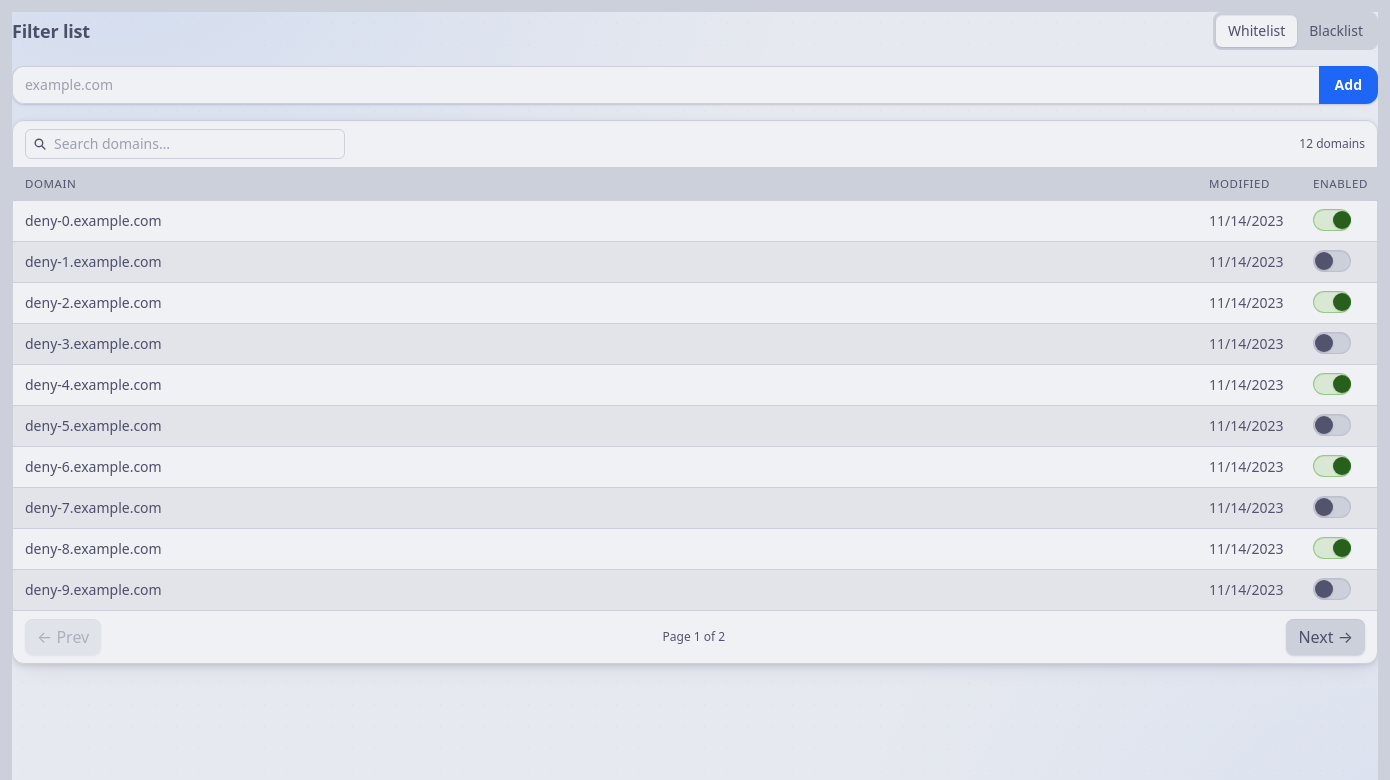
Test: Filterlist page › shows an error toast when the add request fails
The width and height of the screenshot is (1390, 780).
Expected: the text "deny-0.example.com" is shown, [13,201,1197,242]
In the field named "Domain to add": (665, 85) [12,66,1319,104], type "x.example.com"
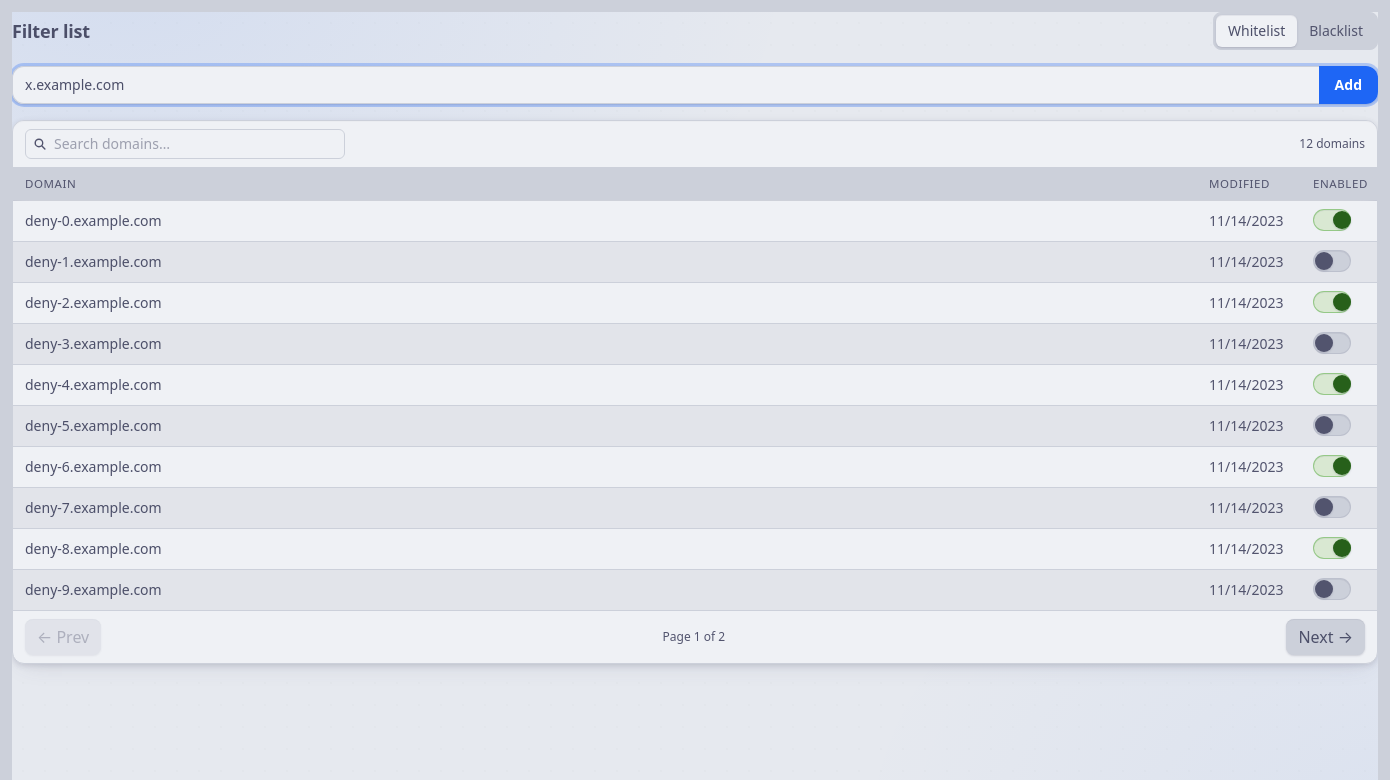
Click the button "Add": click(1348, 85) [1319,66,1378,104]
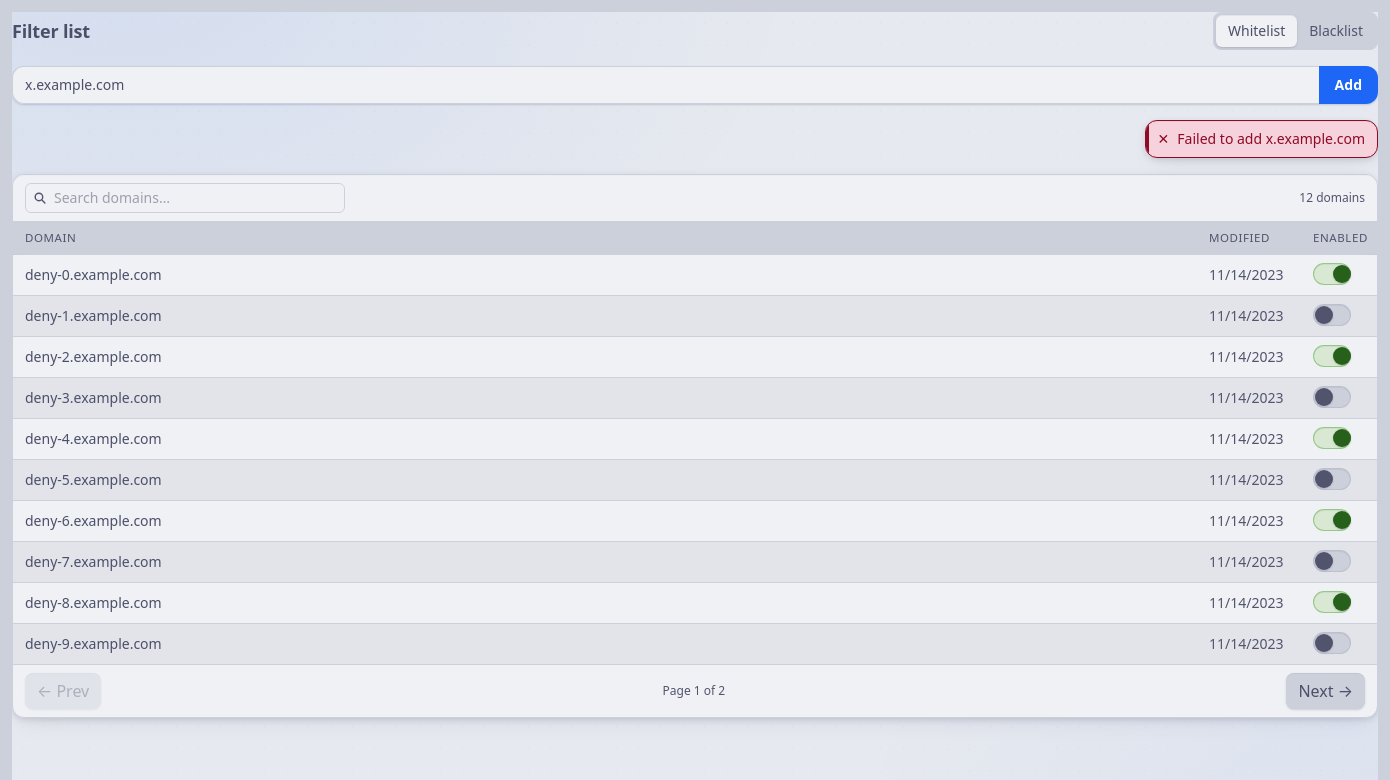
Result: the text "Failed to add x.example.com" is shown at [1177,129,1365,148]
